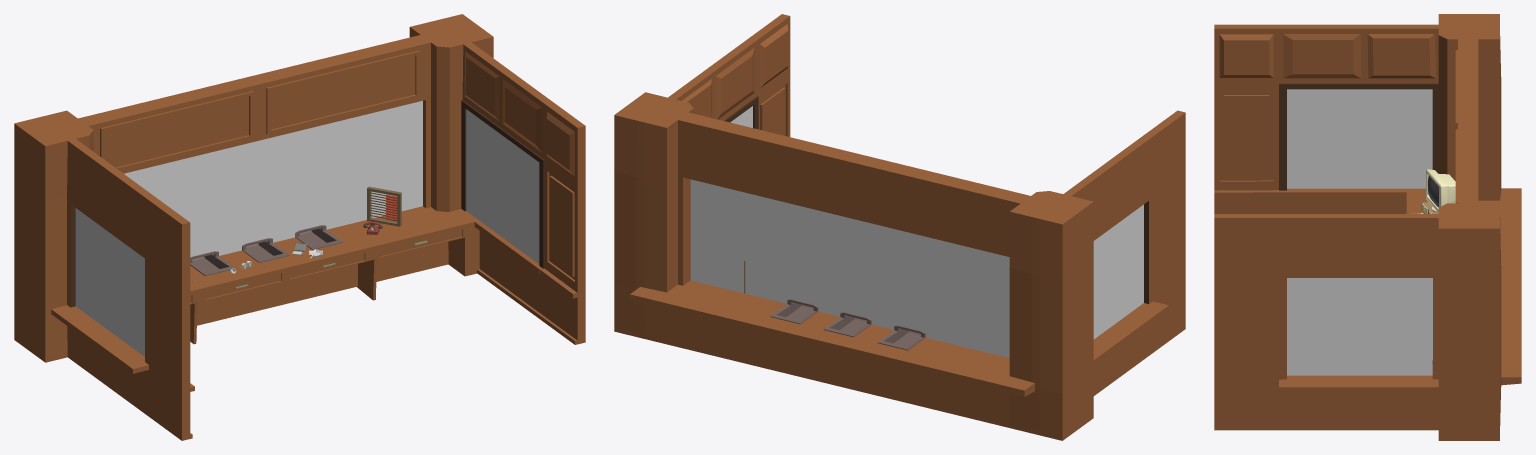
Rendered from Table_IntroProj(1).fbx.
3 views of the same model, side by side, from view 1: azimuth 30°, elevation 25°; view 2: azimuth 150°, elevation 25°; view 3: azimuth 270°, elevation 25° (orthographic).
Visible parts, largest first — view 1: Desk, Plane.004, Desk02, Plane.006, Plane.005, Desk02.001, Cylinder.006; view 2: Desk, Plane.004, Desk02, Plane.005, Desk02.001; view 3: Desk, Plane.005, Plane.006, Desk02, Cube.045.
Boxes of the visible parts, left/top/right/bottom form: Desk: left=14, top=14, right=585, bottom=440; Plane.004: left=124, top=101, right=422, bottom=257; Desk02: left=75, top=206, right=479, bottom=344; Plane.006: left=466, top=109, right=539, bottom=263; Plane.005: left=75, top=208, right=144, bottom=356; Desk02.001: left=190, top=225, right=342, bottom=276; Cylinder.006: left=367, top=186, right=401, bottom=226; Desk: left=614, top=14, right=1185, bottom=440; Plane.004: left=690, top=179, right=1009, bottom=357; Desk02: left=630, top=280, right=1034, bottom=396; Plane.005: left=1093, top=204, right=1143, bottom=339; Desk02.001: left=770, top=299, right=925, bottom=350; Desk: left=1214, top=14, right=1501, bottom=440; Plane.005: left=1287, top=89, right=1432, bottom=188; Plane.006: left=1287, top=278, right=1432, bottom=375; Desk02: left=1406, top=188, right=1521, bottom=385; Cube.045: left=1426, top=169, right=1455, bottom=212.
Size of the model in its own units: 1084 by 507 by 656.
